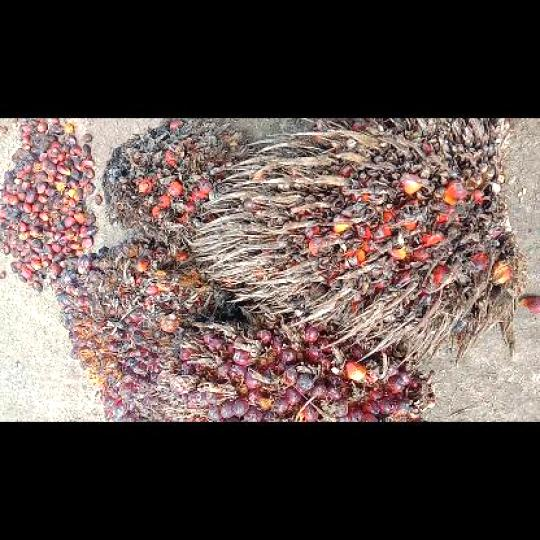masak: (57, 238, 236, 421), (161, 312, 428, 420)
terlalu masak: (190, 118, 526, 366), (100, 118, 250, 244)
